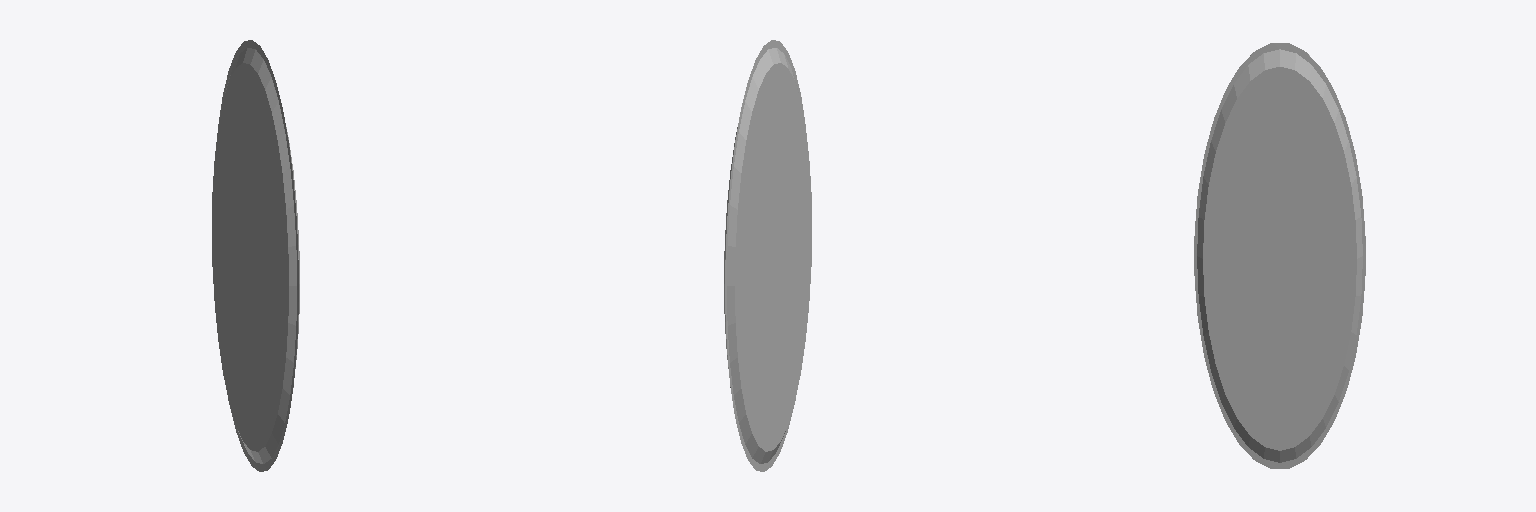
Rendered from portal2.obj.
The picture shows the model from 3 angles: view 1: azimuth 30°, elevation 25°; view 2: azimuth 150°, elevation 25°; view 3: azimuth 270°, elevation 25°; orthographic projection.
Parts seen in each view (by area): view 1: Circle; view 2: Circle; view 3: Circle.
Part boxes in pixels (bbox=[...]): Circle: bbox=[212, 40, 299, 471]; Circle: bbox=[724, 40, 811, 471]; Circle: bbox=[1194, 43, 1365, 468].
Bounding box in the file's own units: 0.1488 × 5.46 × 1.98.